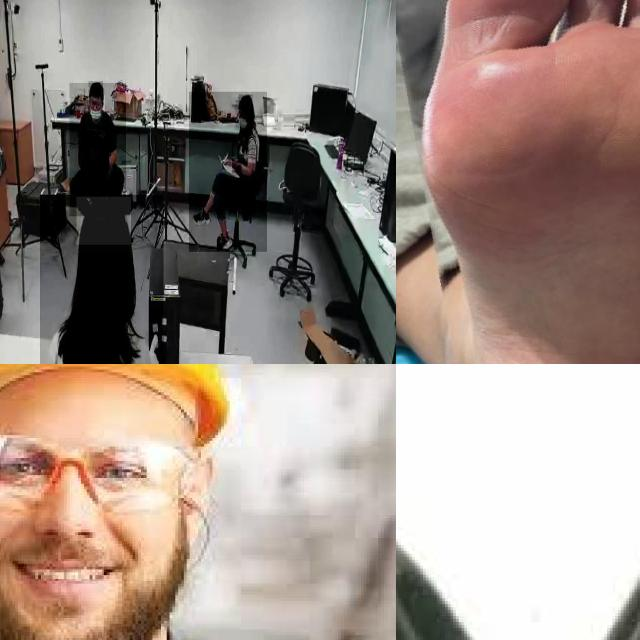Barefoots: (423, 0, 640, 364)
Ear-protection: (396, 513, 533, 640), (536, 507, 640, 640)
No_Ear-Protection: (187, 454, 223, 551)
face_mask: (85, 95, 105, 126), (236, 100, 252, 131)
face_nomask: (0, 482, 183, 640)
glasses: (0, 436, 189, 520)
hand_glove: (145, 330, 166, 364)
hand_noglove: (232, 160, 242, 174)
head_nohelmet: (76, 197, 132, 246), (88, 81, 104, 97), (239, 94, 253, 108)
person: (40, 195, 164, 364), (189, 91, 267, 252), (70, 83, 126, 216)
shoes: (192, 205, 212, 231)
